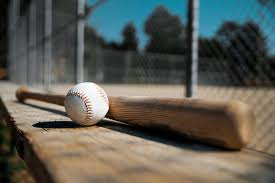baseball bat: (16, 82, 256, 153)
